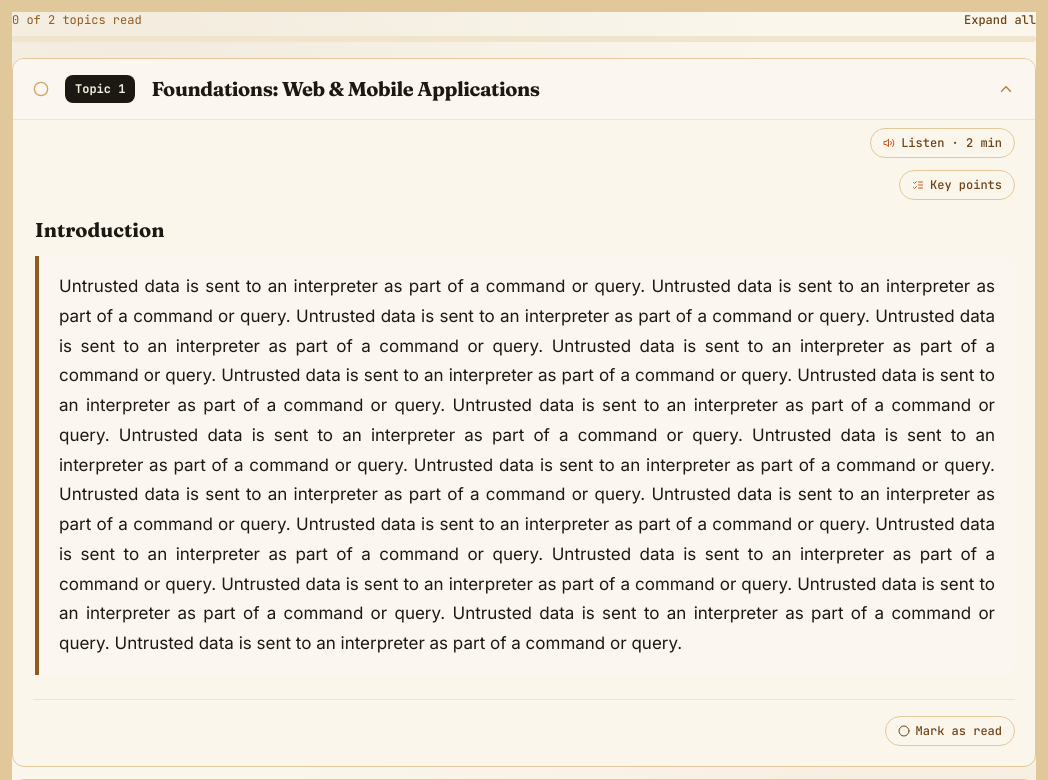
it: reading progress › marks a topic read from the end-of-topic toggle
# Only the first topic is open by default, so there is exactly one toggle.
Click the button "Mark as read".
click(950, 731)  # box [885,716,1015,746]
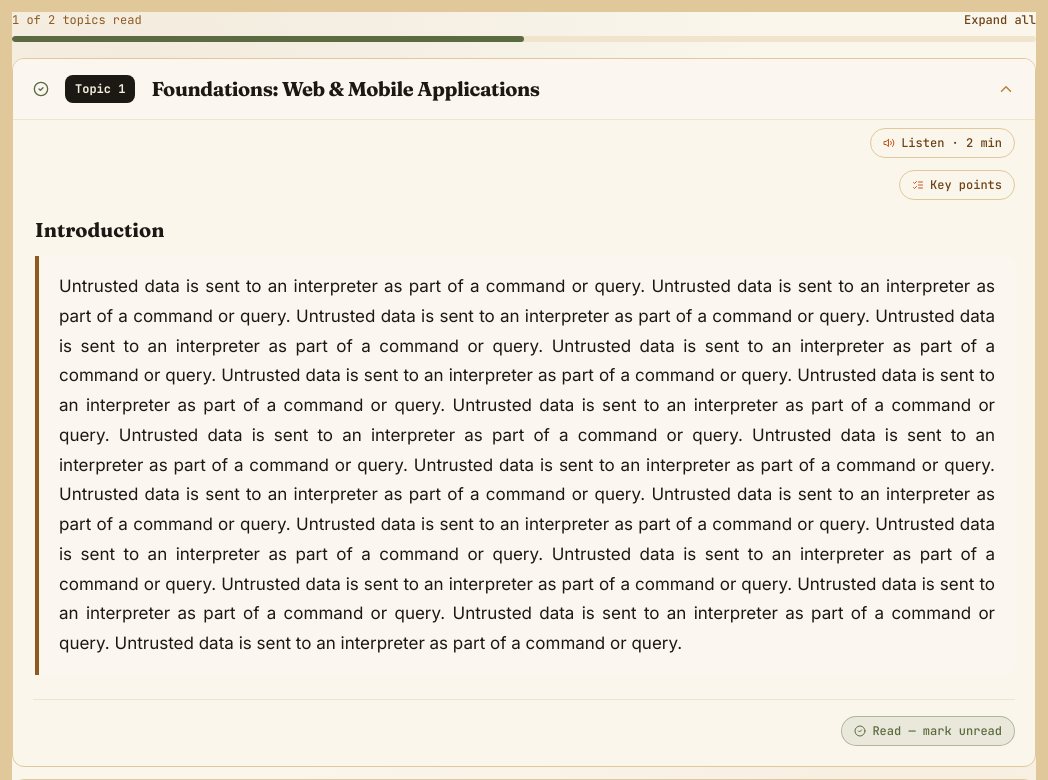
Expected: the text "1 of 2 topics read" is shown, [12,12,142,28]
Expected: the icon named "Read" is shown, [33,81,49,97]
